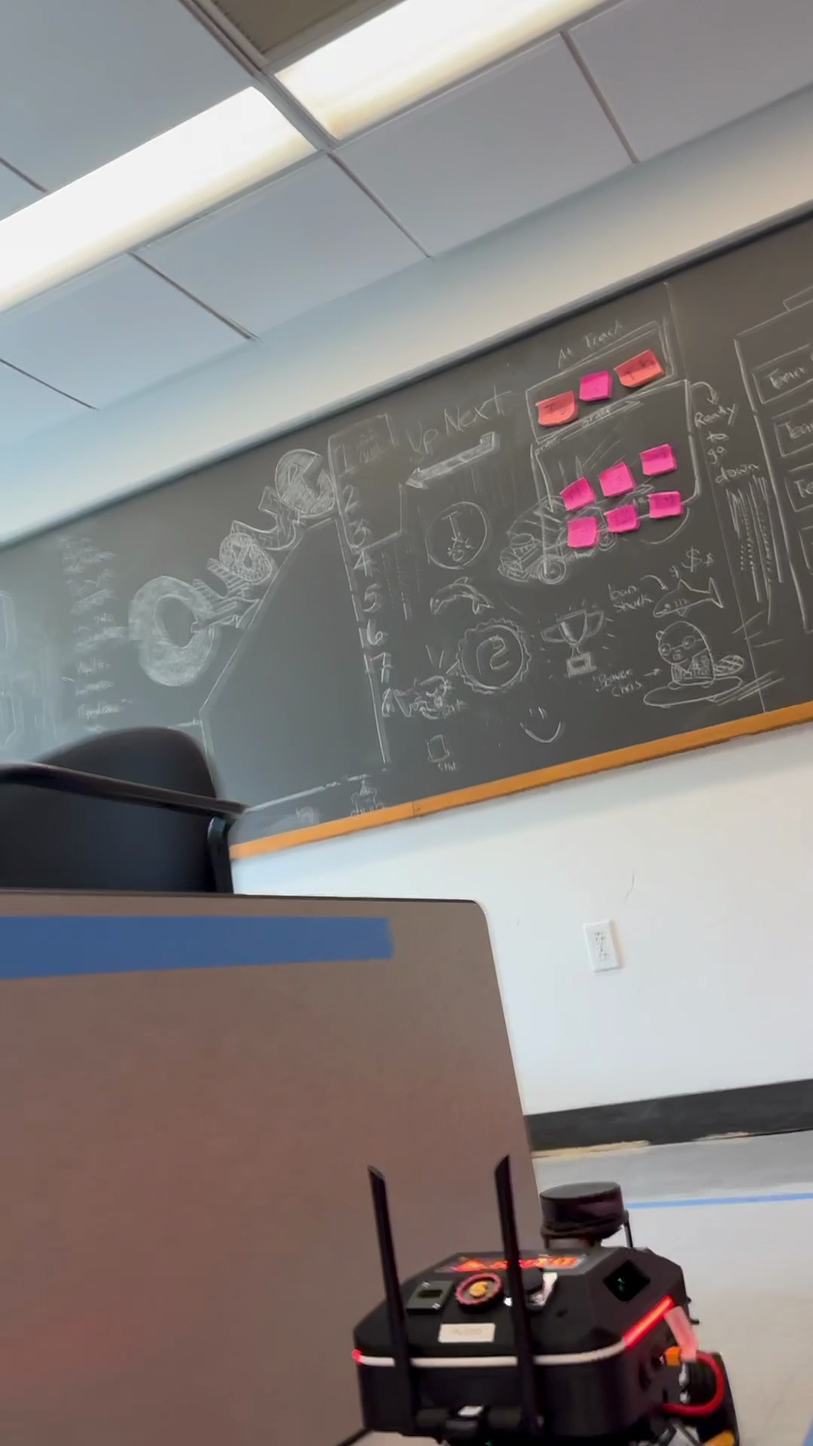racecar: (338, 1156, 734, 1445)
